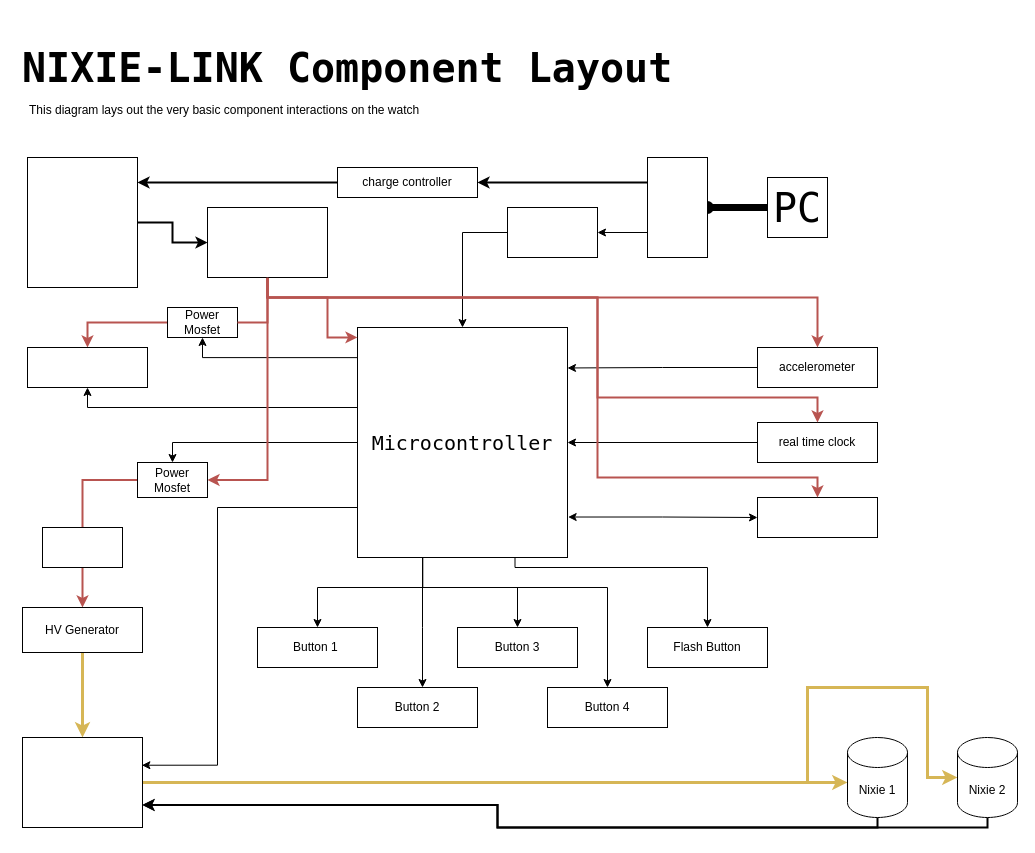
This 1035x853 diagram has some shape labels left out. Each missing label, with the centre of its shape:
BATTERY: point 82,222
BLE module: point 817,517
Humidity Cutoff: point 82,547
Nixie Driver: point 82,782
OLED Display: point 87,367
Power converter (to 3.3 or 5V) may need multiple depending on load: point 267,242
USB otg connector: point 677,207
USB TO SERIAL: point 552,232
